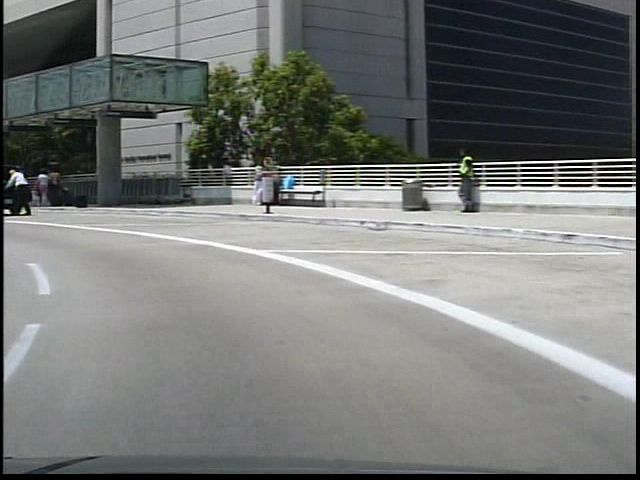person: (447, 149, 473, 221), (6, 164, 31, 217), (43, 166, 59, 211), (31, 168, 46, 209)
